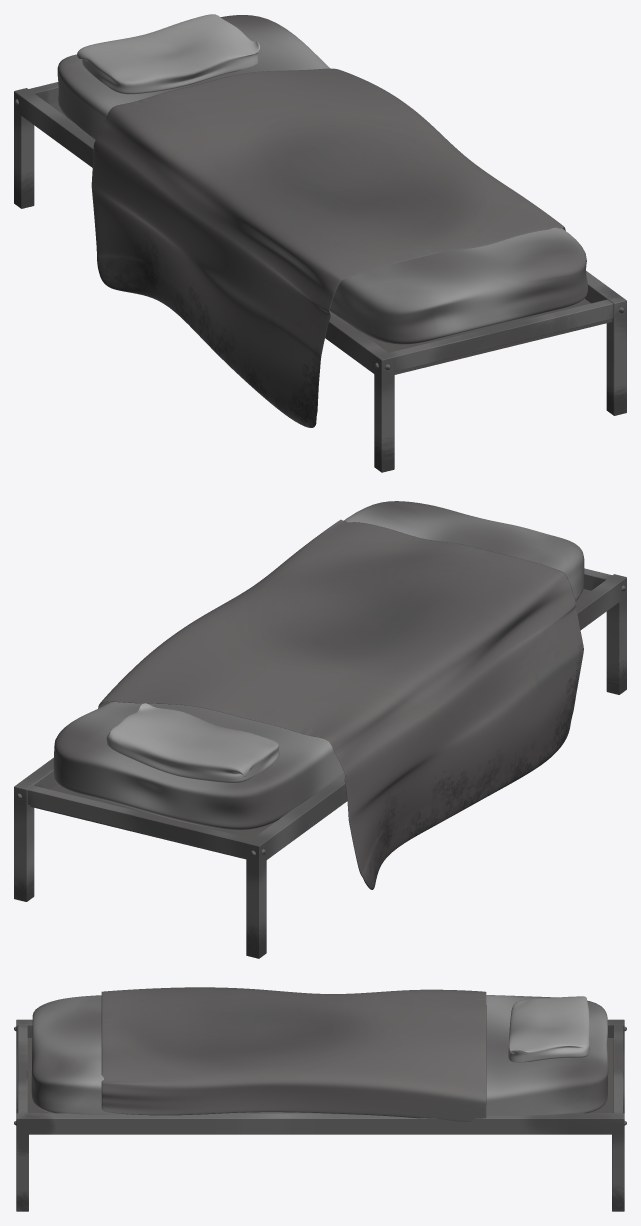
File: bed.fbx
The picture shows the model from 3 angles, top to bottom: view 1: azimuth 30°, elevation 25°; view 2: azimuth 150°, elevation 25°; view 3: azimuth 270°, elevation 25°; orthographic projection. The views are drawn at different scales.
Parts seen in each view (by area): view 1: blanket, matress, frame, pillow, base; view 2: blanket, matress, frame, pillow, base; view 3: blanket, matress, frame, pillow, base.
Boxes of the visible parts, x1=… form: blanket: x1=91, y1=68, x2=565, y2=427; matress: x1=57, y1=15, x2=587, y2=344; frame: x1=14, y1=82, x2=626, y2=472; pillow: x1=77, y1=14, x2=260, y2=94; base: x1=50, y1=102, x2=612, y2=374; blanket: x1=98, y1=519, x2=583, y2=889; matress: x1=53, y1=501, x2=584, y2=829; frame: x1=14, y1=568, x2=626, y2=958; pillow: x1=106, y1=703, x2=279, y2=783; base: x1=30, y1=589, x2=590, y2=859; blanket: x1=101, y1=987, x2=486, y2=1121; matress: x1=31, y1=995, x2=608, y2=1115; frame: x1=16, y1=1019, x2=624, y2=1211; pillow: x1=508, y1=996, x2=589, y2=1062; base: x1=27, y1=1038, x2=613, y2=1113.
Size of the model in its own units: 19.57 by 12.69 by 48.78.
6 materials, 6 textured.
